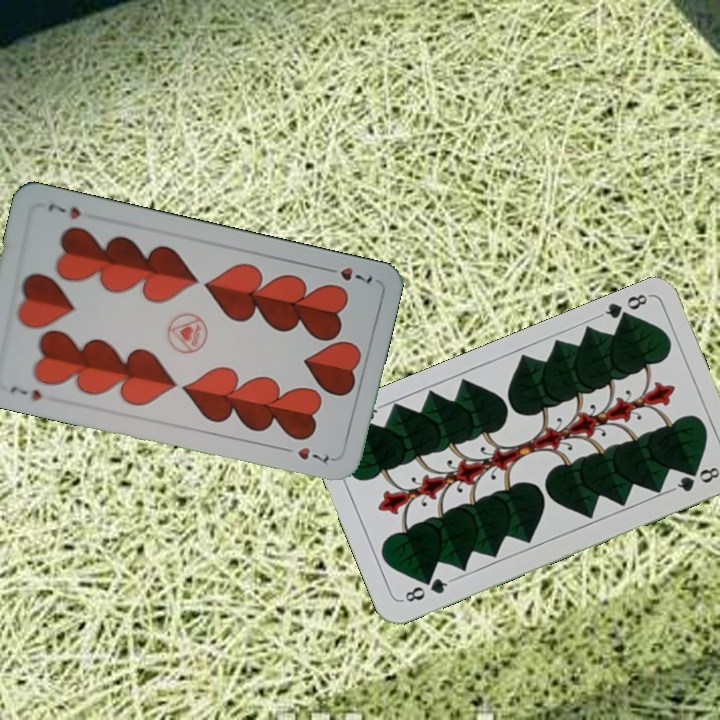G8: (595, 289, 652, 327), (398, 574, 455, 605)
H7: (319, 262, 375, 286), (6, 382, 45, 404)
